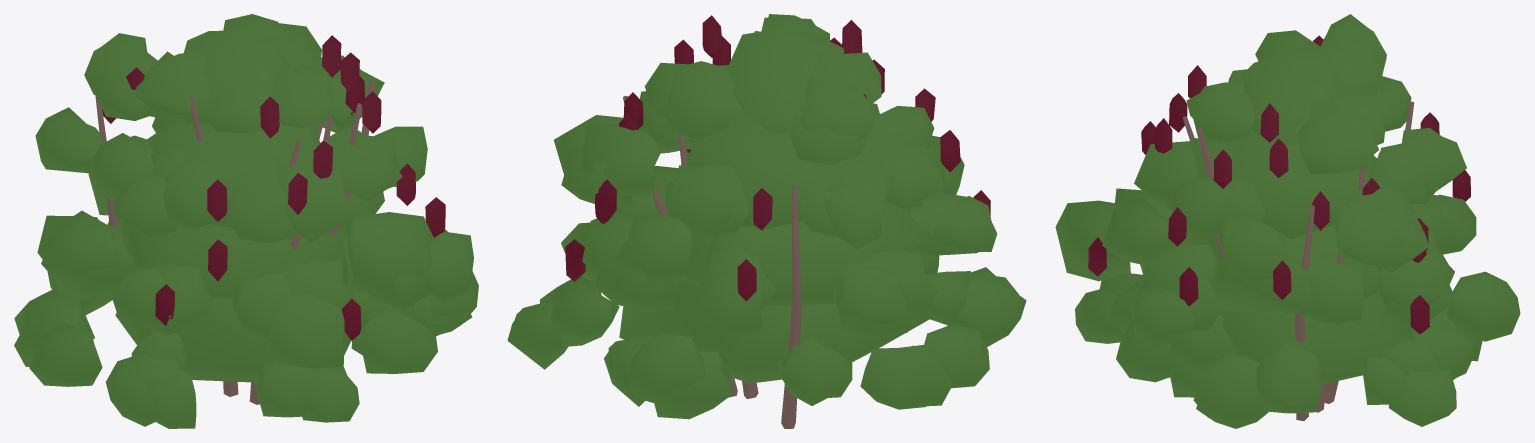
Rendered from Blender_Chokecherry_1.glb.
3 views of the same model, side by side, from view 1: azimuth 30°, elevation 25°; view 2: azimuth 150°, elevation 25°; view 3: azimuth 270°, elevation 25° (orthographic). The views are drawn at different scales.
Parts seen in each view (by area): view 1: Blender_Chokecherry_1; view 2: Blender_Chokecherry_1; view 3: Blender_Chokecherry_1.
Part boxes in pixels (box(x1,y1,x2,y2)): Blender_Chokecherry_1: box(14, 14, 478, 428); Blender_Chokecherry_1: box(507, 14, 1026, 428); Blender_Chokecherry_1: box(1055, 14, 1520, 428).
Bounding box in the file's own units: 4.43 × 3.54 × 4.43.
